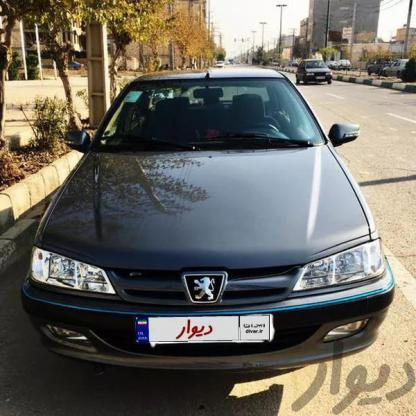Car: (0, 69, 389, 390), (294, 58, 332, 96)
